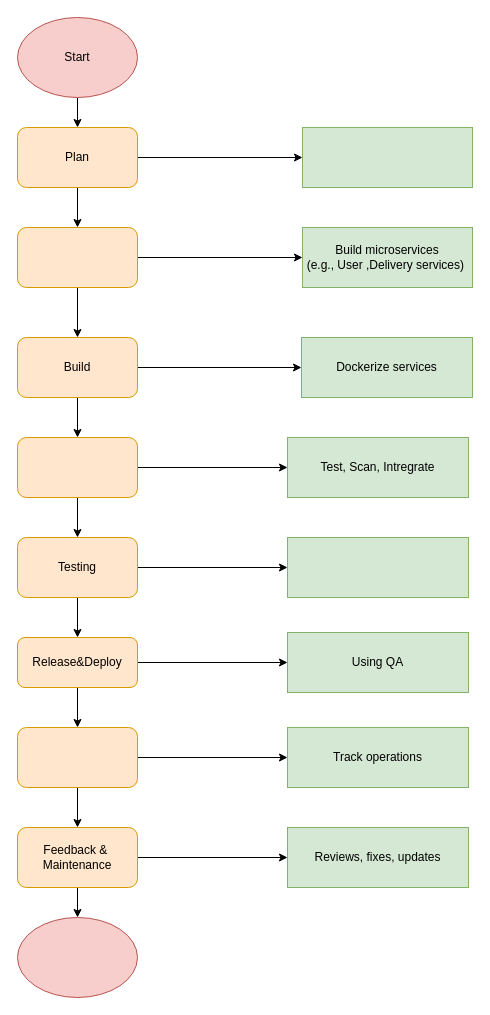
Some shapes in this 490 by 1015 pixel diagram are drawn without their labels. The centre of each missing label's shape, as x and y in pixels:
"Automated tests" goes at (x=377, y=567).
"CI/CD" goes at (x=77, y=467).
"Define app module (e.g., orders,payments)" goes at (x=387, y=157).
"Develop" goes at (x=77, y=257).
"End" goes at (x=77, y=957).
"Monitor" goes at (x=77, y=757).
